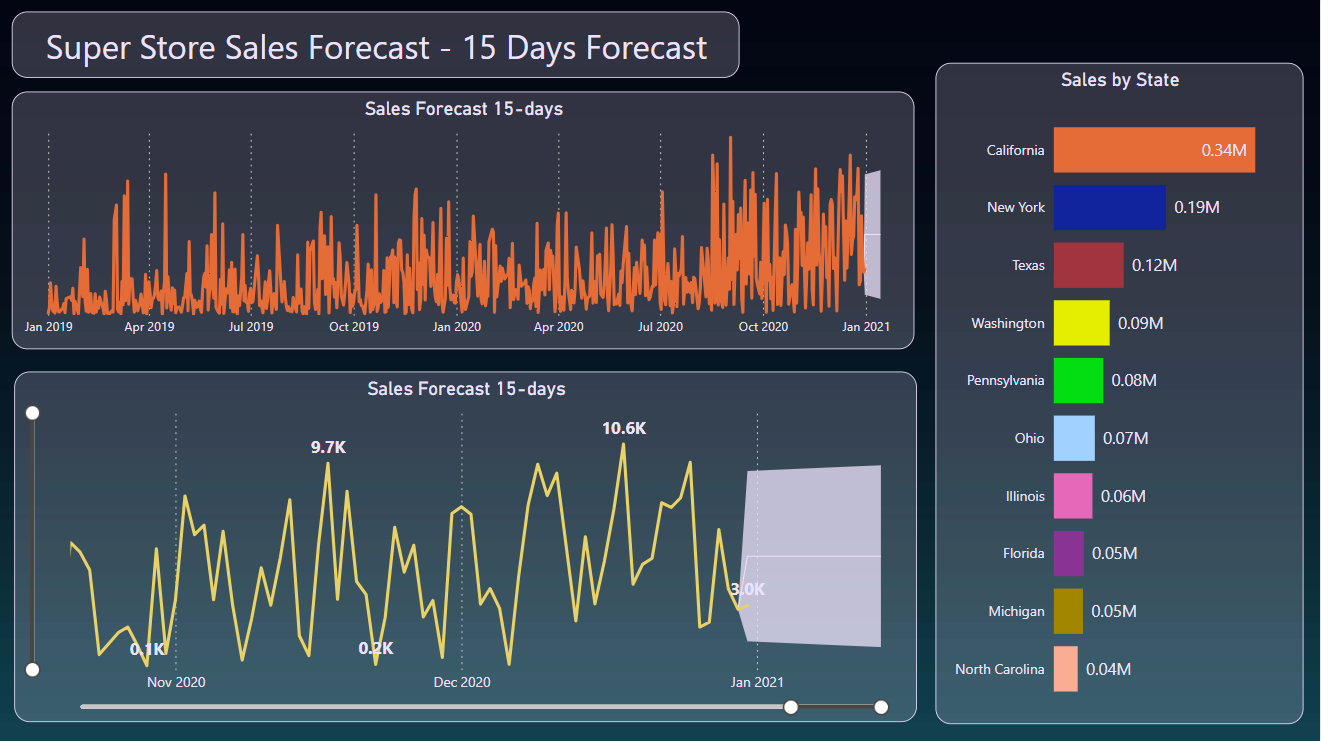

The dashboard page shown, as its layout file describes it:
{"tool":"powerbi","page":{"name":"Page 2","canvas":[1280,720],"ordinal":1},"visuals":[{"type":"lineChart","title":"Sales Forecast 15-days","fields":{"Y":["Sum(SuperStore_Sales_Dataset.Sales)"],"Category":["SuperStore_Sales_Dataset.Order Date"]},"box":[17.5,88.8,871.2,248.8],"z":0},{"type":"lineChart","title":"Sales Forecast 15-days","fields":{"Y":["Sum(SuperStore_Sales_Dataset.Sales)"],"Category":["SuperStore_Sales_Dataset.Order Date"]},"box":[20,360,871.2,338.8],"z":1000},{"type":"barChart","title":"Sales by State","fields":{"Y":["Sum(SuperStore_Sales_Dataset.Sales)"],"Category":["SuperStore_Sales_Dataset.State"]},"box":[910,61.2,355,638.8],"z":2000},{"type":"textbox","box":[17.5,12.5,702.5,63.8],"z":3000}]}

Visuals, with their boxes in screenshot pixels (x1, y1, x2, y2), scaled from the page's 1280x720 canvas onto the 1321x741 screenshot:
"Sales Forecast 15-days" lineChart: (left=18, top=91, right=917, bottom=347)
"Sales Forecast 15-days" lineChart: (left=21, top=370, right=920, bottom=719)
"Sales by State" barChart: (left=939, top=63, right=1306, bottom=720)
textbox: (left=18, top=13, right=743, bottom=79)
